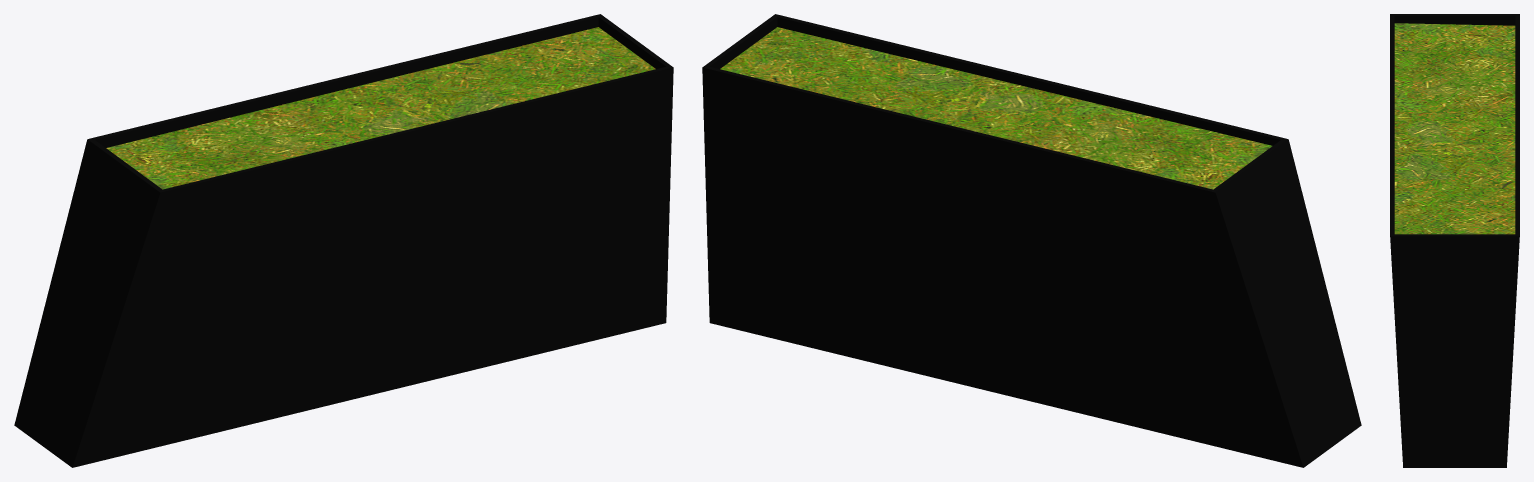
The model's file is W_O_Playground_Glassbed_002_L1.fbx.
3 views of the same model, side by side, from view 1: azimuth 30°, elevation 25°; view 2: azimuth 150°, elevation 25°; view 3: azimuth 270°, elevation 25° (orthographic). The views are drawn at different scales.
Visible parts, largest first — view 1: W_O_Playground_Glassbed_002_L1; view 2: W_O_Playground_Glassbed_002_L1; view 3: W_O_Playground_Glassbed_002_L1.
Boxes of the visible parts, <box> form: W_O_Playground_Glassbed_002_L1: <box>14,14,673,467</box>; W_O_Playground_Glassbed_002_L1: <box>702,14,1361,467</box>; W_O_Playground_Glassbed_002_L1: <box>1390,14,1519,467</box>.
Size of the model in its own units: 1.48 by 0.6202 by 0.3147.
